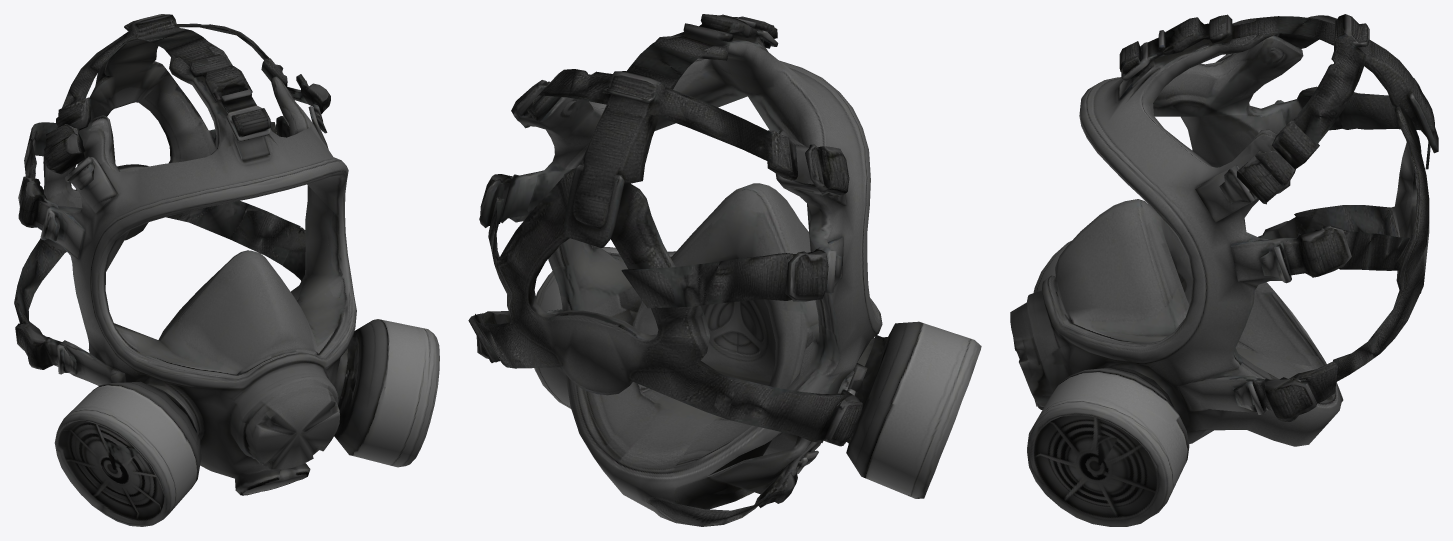
File: tripo_convert_d6eb9a22-af3b-46cd-a7fe-bc0d30c9a28a.fbx
3 renders of one model, left to right at view 1: azimuth 30°, elevation 25°; view 2: azimuth 150°, elevation 25°; view 3: azimuth 270°, elevation 25°, orthographic. The views are drawn at different scales.
Parts seen in each view (by area): view 1: tripo_node_d6eb9a22; view 2: tripo_node_d6eb9a22; view 3: tripo_node_d6eb9a22.
Boxes of the visible parts, x1,y1,x2,y2 form: tripo_node_d6eb9a22: (14, 14, 439, 526); tripo_node_d6eb9a22: (468, 14, 981, 526); tripo_node_d6eb9a22: (1010, 14, 1438, 526).
Bounding box in the file's own units: 0.9512 × 0.998 × 0.8965.
